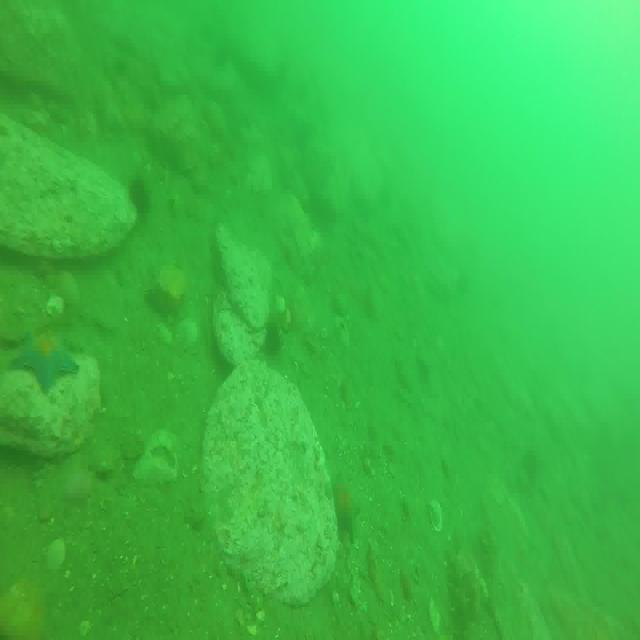echinus: (130, 176, 153, 222)
holothurian: (443, 551, 471, 640)
starfish: (10, 333, 77, 392), (325, 470, 362, 544)
